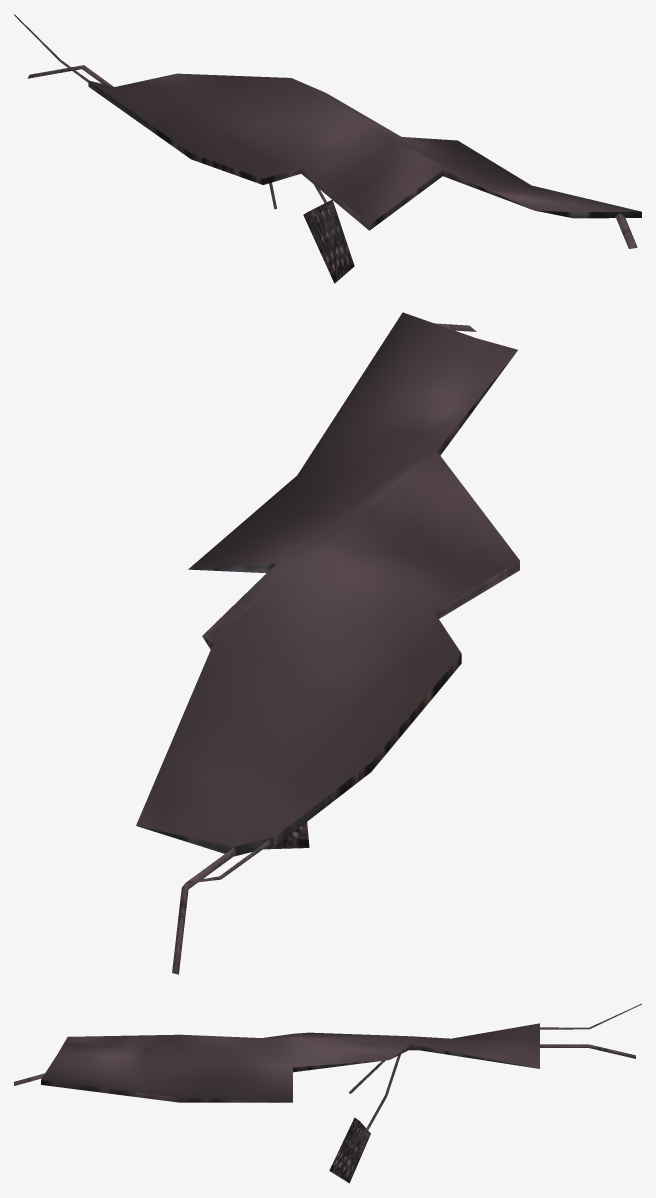
The picture shows the model from 3 angles, top to bottom: view 1: azimuth 30°, elevation 25°; view 2: azimuth 150°, elevation 25°; view 3: azimuth 270°, elevation 25°; orthographic projection. The views are drawn at different scales.
Visible parts, largest first — view 1: layer_00_sect_01U; view 2: layer_00_sect_01U; view 3: layer_00_sect_01U.
Part boxes in pixels (left/top/right/bottom): layer_00_sect_01U: left=14, top=14, right=641, bottom=283; layer_00_sect_01U: left=136, top=312, right=519, bottom=974; layer_00_sect_01U: left=14, top=1003, right=641, bottom=1183.
Size of the model in its own units: 20.8 by 15.1 by 58.5.
Materials: 1 (1 with a texture image).
